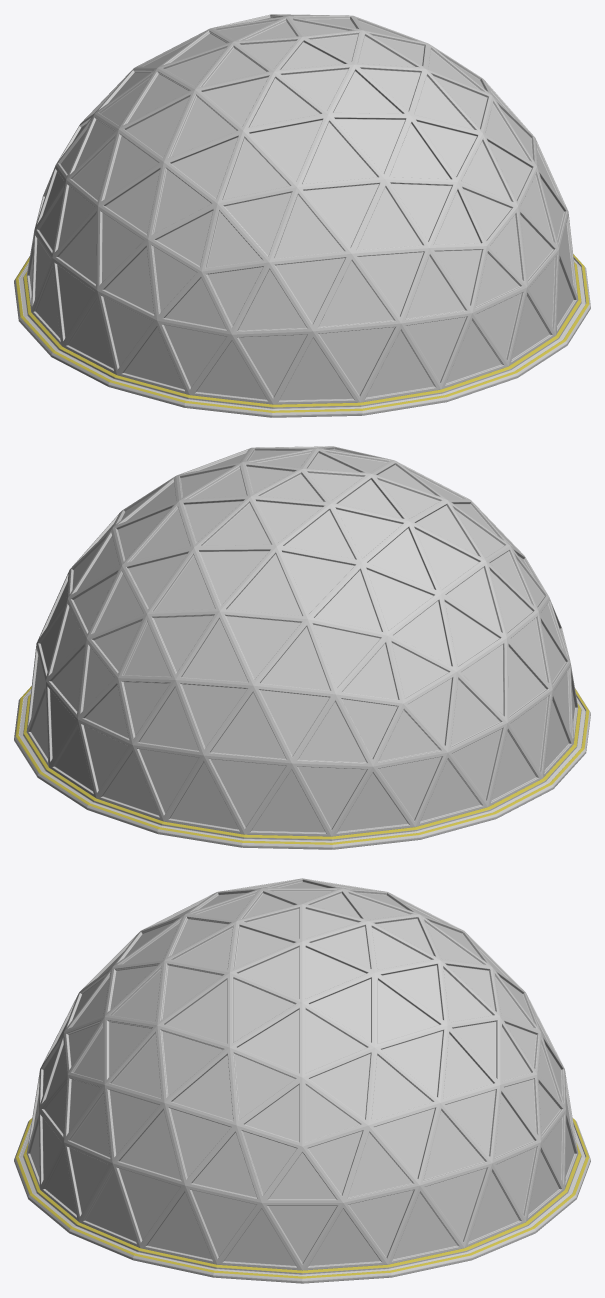
Rendered from Sci-Fi Building 2 Packed.obj.
3 renders of one model, top to bottom at view 1: azimuth 30°, elevation 25°; view 2: azimuth 150°, elevation 25°; view 3: azimuth 270°, elevation 25°, orthographic.
Parts seen in each view (by area): view 1: Icosphere.001; view 2: Icosphere.001; view 3: Icosphere.001.
Boxes of the visible parts, box(x1,y1,x2,y2) form: Icosphere.001: box(14, 14, 590, 417); Icosphere.001: box(14, 446, 590, 849); Icosphere.001: box(14, 878, 590, 1283).
Bounding box in the file's own units: 4.13 × 2.04 × 4.13.
